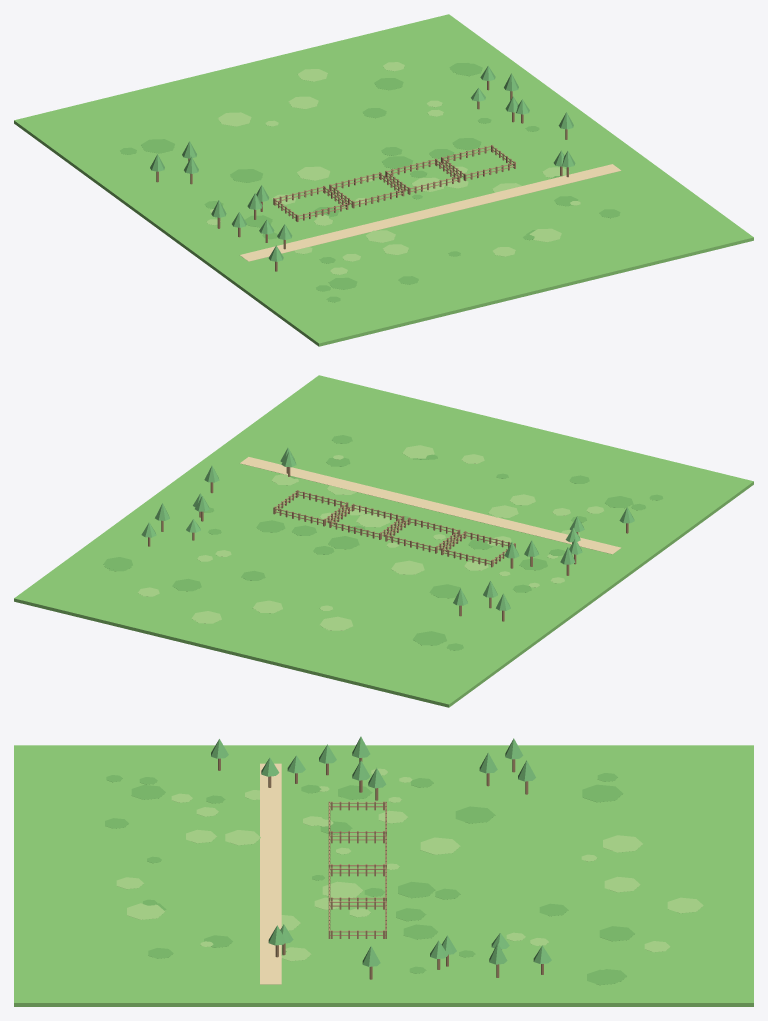
Rendered from zoo.glb.
The picture shows the model from 3 angles, top to bottom: view 1: azimuth 30°, elevation 25°; view 2: azimuth 150°, elevation 25°; view 3: azimuth 270°, elevation 25°; orthographic projection. The views are drawn at different scales.
Visible parts, largest first — view 1: land, path; view 2: land, path; view 3: land, path, Cylinder.047, Cylinder.036, Cylinder.006, Cylinder.032, Cylinder.005, Cylinder.038, Cylinder.015.
Part boxes in pixels (x1,y1,x2,y2): land: (14, 14, 753, 346); path: (240, 164, 621, 261); land: (14, 375, 753, 707); path: (240, 457, 621, 554); land: (14, 745, 753, 1006); path: (260, 763, 281, 984); Cylinder.047: (582, 784, 623, 802); Cylinder.036: (420, 837, 460, 854); Cylinder.006: (322, 881, 363, 898); Cylinder.032: (603, 835, 642, 852); Cylinder.005: (455, 806, 495, 823); Cylinder.038: (127, 903, 165, 919); Cylinder.015: (398, 881, 435, 898).
Bounding box in the file's own units: 140 × 9.86 × 170.
